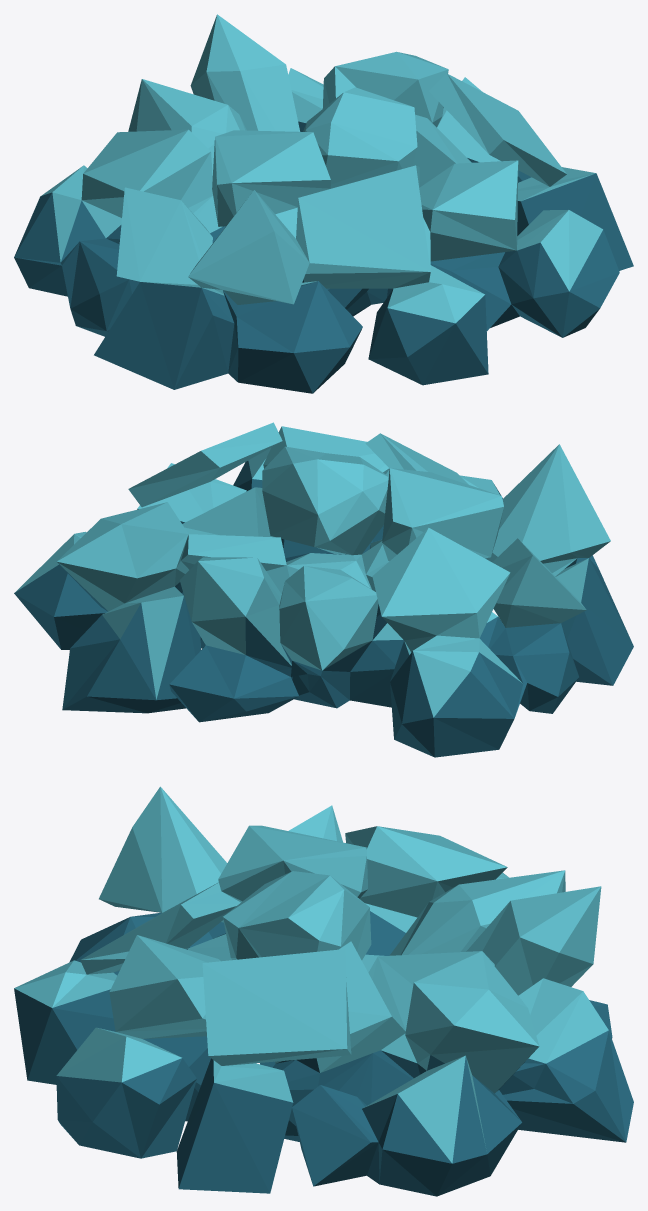
The model's file is crystal-3.glb.
3 views of the same model, one above another, from view 1: azimuth 30°, elevation 25°; view 2: azimuth 150°, elevation 25°; view 3: azimuth 270°, elevation 25° (orthographic). The views are drawn at different scales.
Parts seen in each view (by area): view 1: output_unwrapped; view 2: output_unwrapped; view 3: output_unwrapped.
Boxes of the visible parts, left/top/right/bottom form: output_unwrapped: left=14, top=14, right=633, bottom=393; output_unwrapped: left=14, top=422, right=633, bottom=757; output_unwrapped: left=14, top=786, right=633, bottom=1196.
Size of the model in its own units: 1.4 by 0.4784 by 1.33.
